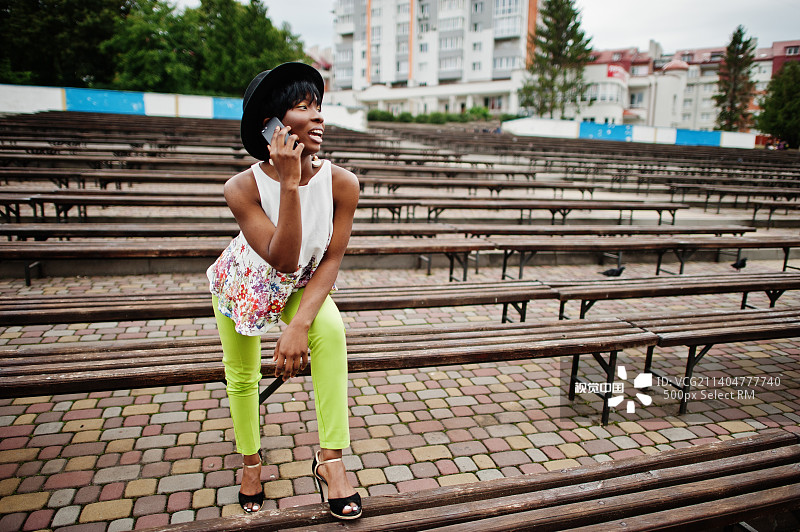calling: (251, 115, 315, 195)
no-phone: (265, 309, 327, 379)
